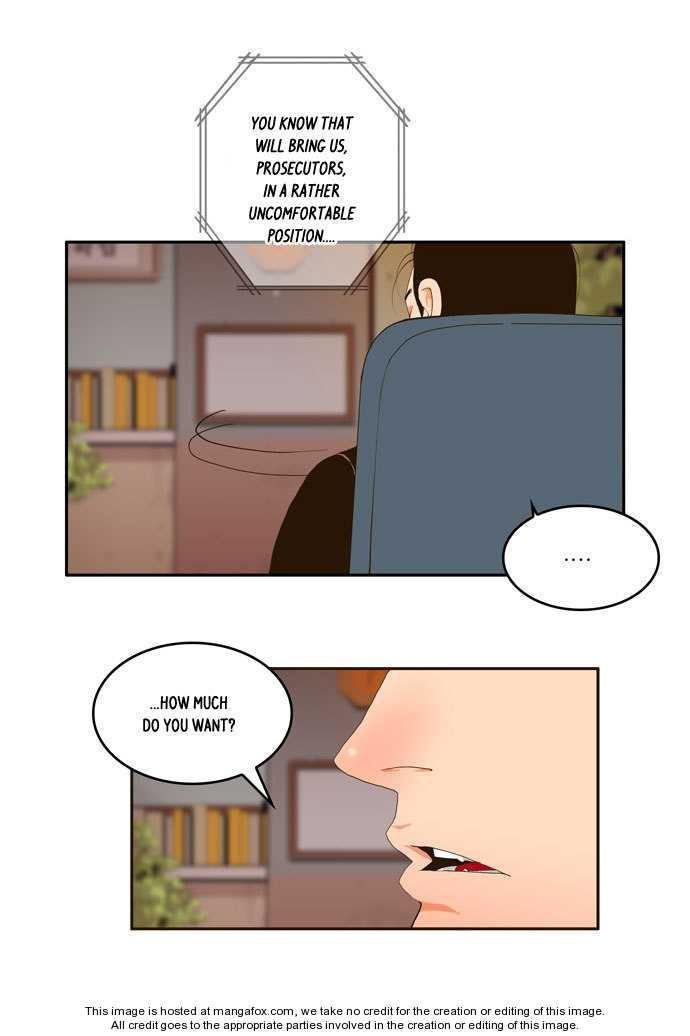bubble: (199, 57, 403, 287), (92, 642, 291, 806), (503, 503, 661, 609)
